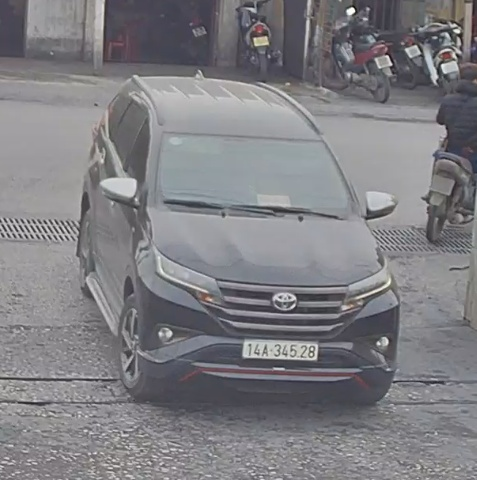vehicle plate: (233, 330, 329, 363)
